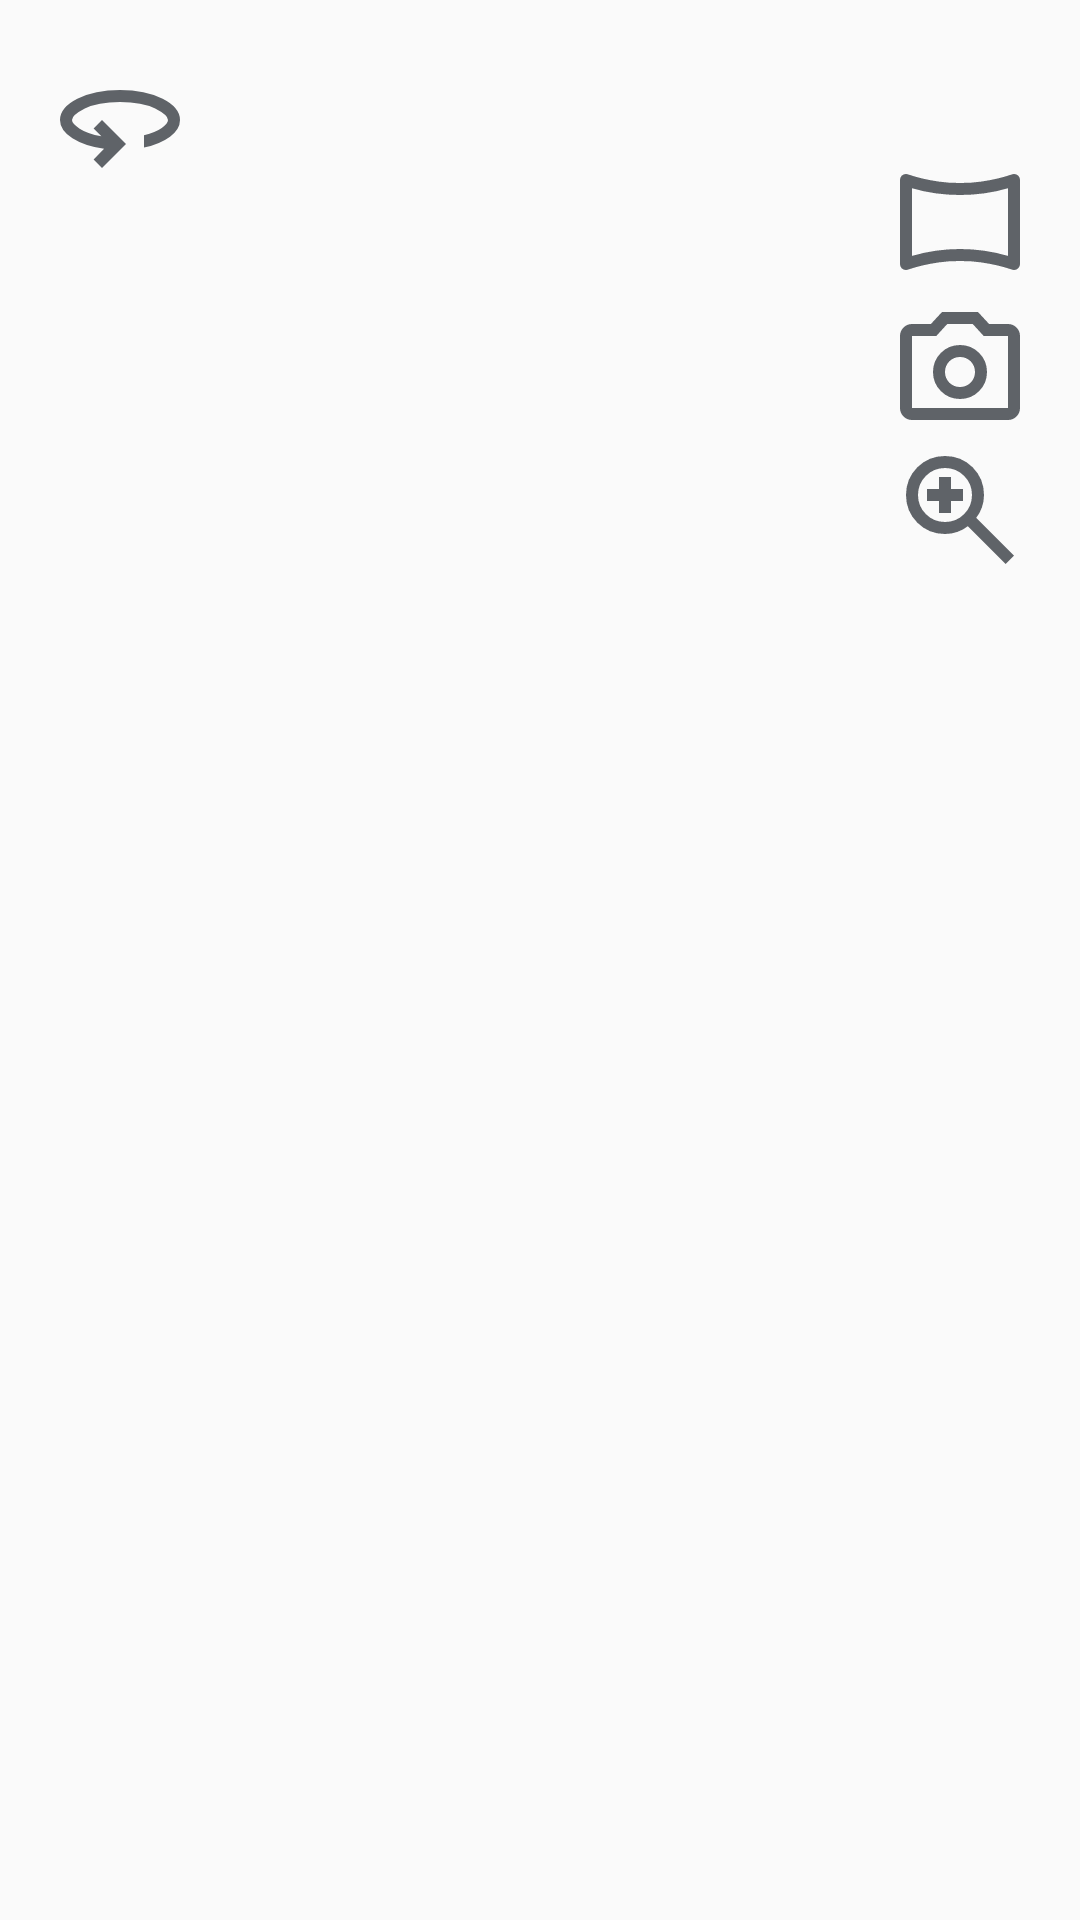

Icon click points for this 1080x1920 phone screenshot, format point (x, y):
Standard Camera: point (960, 366)
Switch Camera: point (120, 129)
Wide Camera: point (960, 222)
Zoom Camera: point (960, 510)
